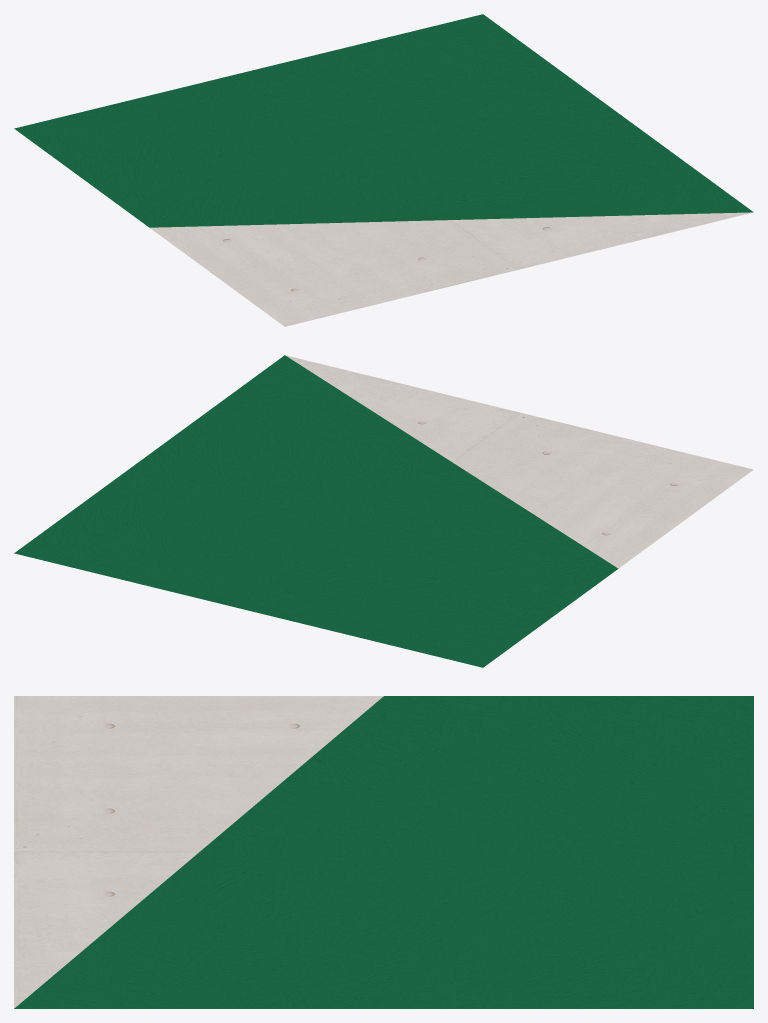
File: VPS_Floor_5.fbx
The picture shows the model from 3 angles, top to bottom: view 1: azimuth 30°, elevation 25°; view 2: azimuth 150°, elevation 25°; view 3: azimuth 270°, elevation 25°; orthographic projection. The views are drawn at different scales.
Visible parts, largest first — view 1: VSP_FLOOR21; view 2: VSP_FLOOR21; view 3: VSP_FLOOR21.
Part boxes in pixels (left/top/right/bottom): VSP_FLOOR21: left=14, top=14, right=753, bottom=326; VSP_FLOOR21: left=14, top=355, right=753, bottom=667; VSP_FLOOR21: left=14, top=696, right=753, bottom=1008.
Size of the model in its own units: 4 by 8.88e-16 by 4.
Materials: 2 (2 with a texture image).
